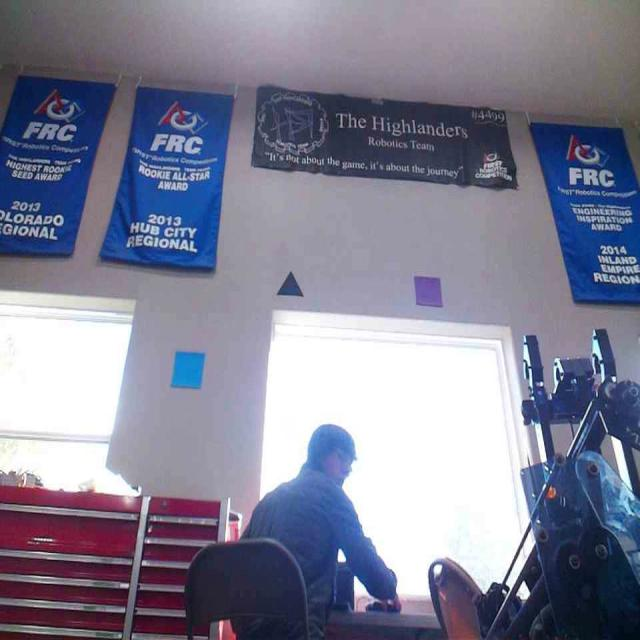square_blue: (170, 350, 208, 387)
square_purple: (411, 274, 445, 308)
triangle_black: (276, 269, 304, 296)
